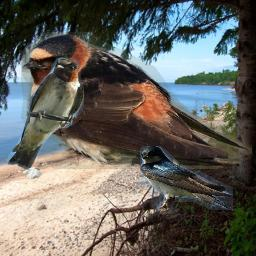Swallow: (21, 32, 252, 169), (5, 57, 84, 170), (140, 146, 233, 214)
